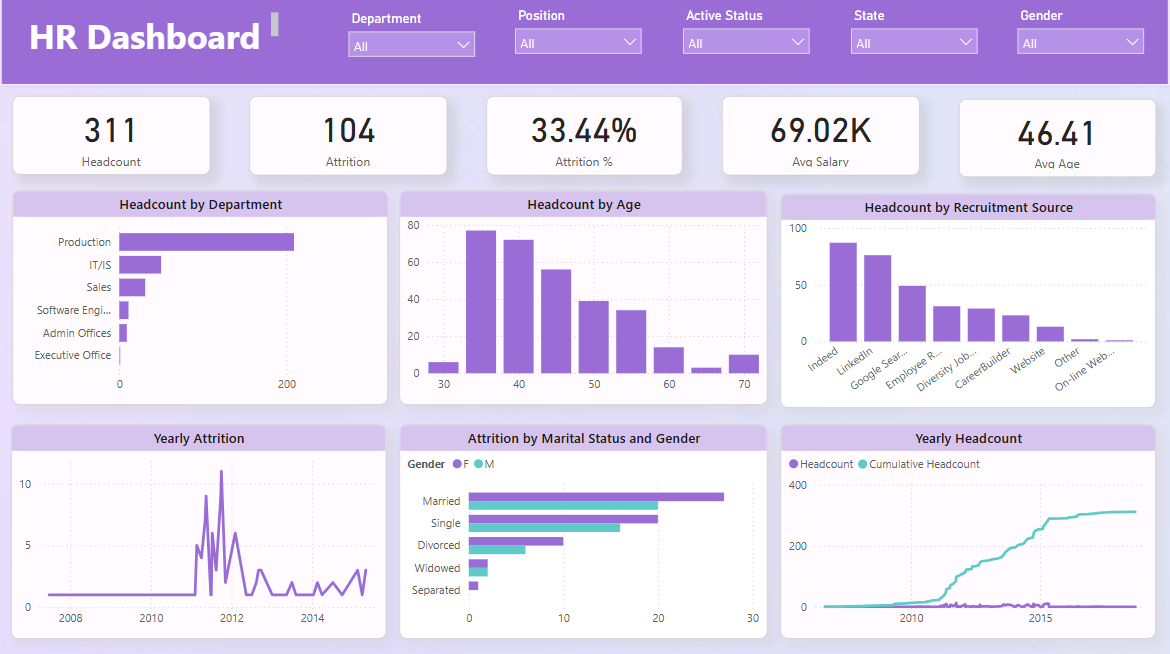

The dashboard page shown, as its layout file describes it:
{"tool":"powerbi","page":{"name":"Page 1","canvas":[1280,720],"ordinal":0},"visuals":[{"type":"shape","box":[0,0,1280,98],"z":0},{"type":"card","fields":{"Values":["Measure.Headcount"]},"box":[15,108,216,86],"z":1000},{"type":"slicer","fields":{"Values":["HRDataset_v14.Department"]},"box":[371.3,9.3,158,66],"z":2000},{"type":"card","fields":{"Values":["Measure.Attrition Rate"]},"box":[532.9,108.3,213.8,86.7],"z":3000},{"type":"slicer","fields":{"Values":["HRDataset_v14.Position"]},"box":[554.3,7.3,158,68],"z":4000},{"type":"card","fields":{"Values":["Measure.Attrition Count"]},"box":[274.1,108.3,215.7,86.7],"z":5000},{"type":"slicer","fields":{"Values":["HRDataset_v14.EmploymentStatus"]},"box":[737.3,7.3,158,68],"z":6000},{"type":"card","fields":{"Values":["Measure.Avg Salary"]},"box":[789.7,108.3,215.7,86.7],"z":7000},{"type":"slicer","fields":{"Values":["HRDataset_v14.State"]},"box":[920.3,7.3,158,68],"z":8000},{"type":"card","fields":{"Values":["Measure.Avg Age"]},"box":[1048.5,112,215,85],"z":9000},{"type":"slicer","fields":{"Values":["HRDataset_v14.Gender"]},"box":[1103.3,7.3,158,68],"z":10000},{"type":"clusteredBarChart","fields":{"Y":["Measure.Headcount"],"Category":["HRDataset_v14.Department"]},"box":[14,212,410,234],"z":11000},{"type":"clusteredColumnChart","title":"Headcount by Age","fields":{"Category":["HRDataset_v14.Age (bins)"],"Y":["Measure.Headcount"]},"box":[438,212,402,234],"z":12000},{"type":"clusteredBarChart","title":"Attrition by Marital Status and Gender","fields":{"Category":["HRDataset_v14.MaritalDesc"],"Series":["HRDataset_v14.Gender"],"Y":["Measure.Attrition"]},"box":[437.7,467.3,402,234],"z":13000},{"type":"lineChart","title":"Yearly Headcount","fields":{"Category":["HRDataset_v14.DateofHire"],"Y":["Measure.Headcount","Measure.Cumulative Headcount"]},"box":[854.7,467.3,410,234],"z":14000},{"type":"lineChart","title":"Yearly Attrition","fields":{"Category":["HRDataset_v14.DateofHire"],"Y":["Measure.Attrition Count"]},"box":[12.7,467.3,410,234],"z":15000},{"type":"columnChart","title":"Headcount by Recruitment Source","fields":{"Y":["Measure.Headcount"],"Category":["HRDataset_v14.RecruitmentSource"]},"box":[854,214,410,234],"z":16000},{"type":"textbox","box":[28,12,282,52],"z":17000}]}

Visuals, with their boxes in screenshot pixels (x1, y1, x2, y2), scaled from the page's 1280x720 canvas onto the 1170x654 screenshot:
shape: [left=0, top=0, right=1169, bottom=89]
card - Measure.Headcount: [left=14, top=98, right=211, bottom=176]
slicer - HRDataset_v14.Department: [left=339, top=8, right=484, bottom=68]
card - Measure.Attrition Rate: [left=487, top=98, right=683, bottom=177]
slicer - HRDataset_v14.Position: [left=507, top=7, right=651, bottom=68]
card - Measure.Attrition Count: [left=251, top=98, right=448, bottom=177]
slicer - HRDataset_v14.EmploymentStatus: [left=674, top=7, right=818, bottom=68]
card - Measure.Avg Salary: [left=722, top=98, right=919, bottom=177]
slicer - HRDataset_v14.State: [left=841, top=7, right=986, bottom=68]
card - Measure.Avg Age: [left=958, top=102, right=1155, bottom=179]
slicer - HRDataset_v14.Gender: [left=1008, top=7, right=1153, bottom=68]
clusteredBarChart - Measure.Headcount x HRDataset_v14.Department: [left=13, top=193, right=388, bottom=405]
"Headcount by Age" clusteredColumnChart: [left=400, top=193, right=768, bottom=405]
"Attrition by Marital Status and Gender" clusteredBarChart: [left=400, top=424, right=768, bottom=637]
"Yearly Headcount" lineChart: [left=781, top=424, right=1156, bottom=637]
"Yearly Attrition" lineChart: [left=12, top=424, right=386, bottom=637]
"Headcount by Recruitment Source" columnChart: [left=781, top=194, right=1155, bottom=407]
textbox: [left=26, top=11, right=283, bottom=58]
